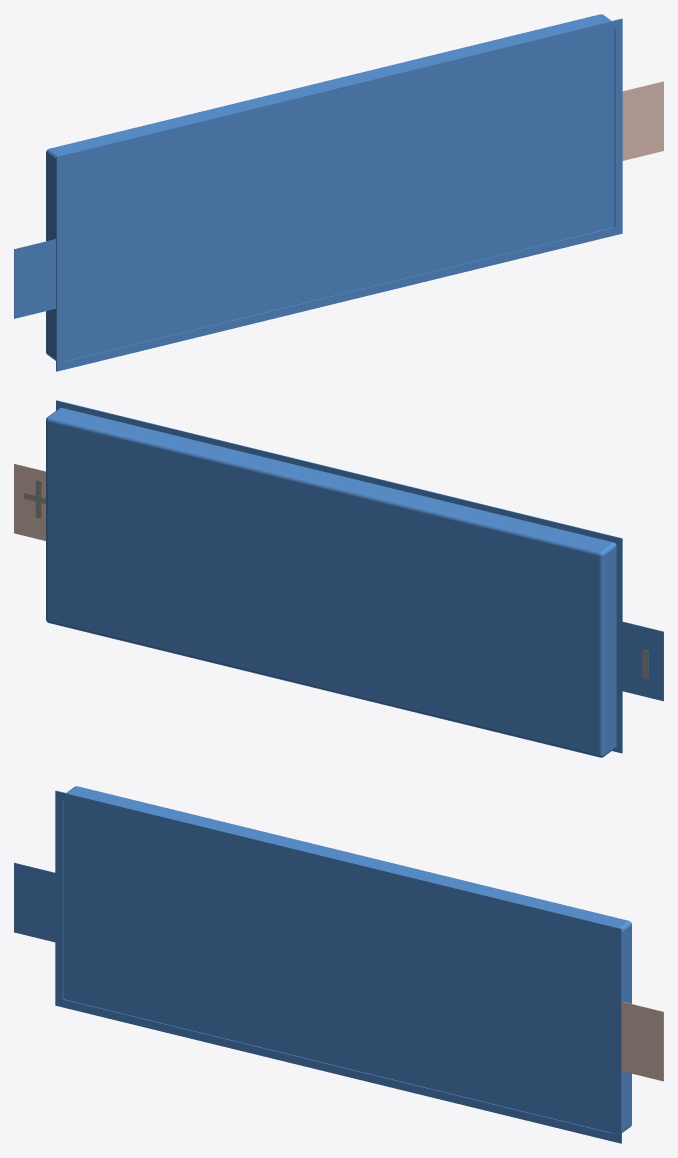
File: Pouch_Cell_73Ah.fbx
3 renders of one model, top to bottom at view 1: azimuth 30°, elevation 25°; view 2: azimuth 150°, elevation 25°; view 3: azimuth 330°, elevation 25°, orthographic.
Parts seen in each view (by area): view 1: Body1; view 2: Body1; view 3: Body1.
Part boxes in pixels (x1,y1,x2,y2): Body1: (14, 14, 663, 371); Body1: (14, 400, 663, 757); Body1: (14, 786, 663, 1143).
Size of the model in its own units: 343 by 108 by 14.73.
